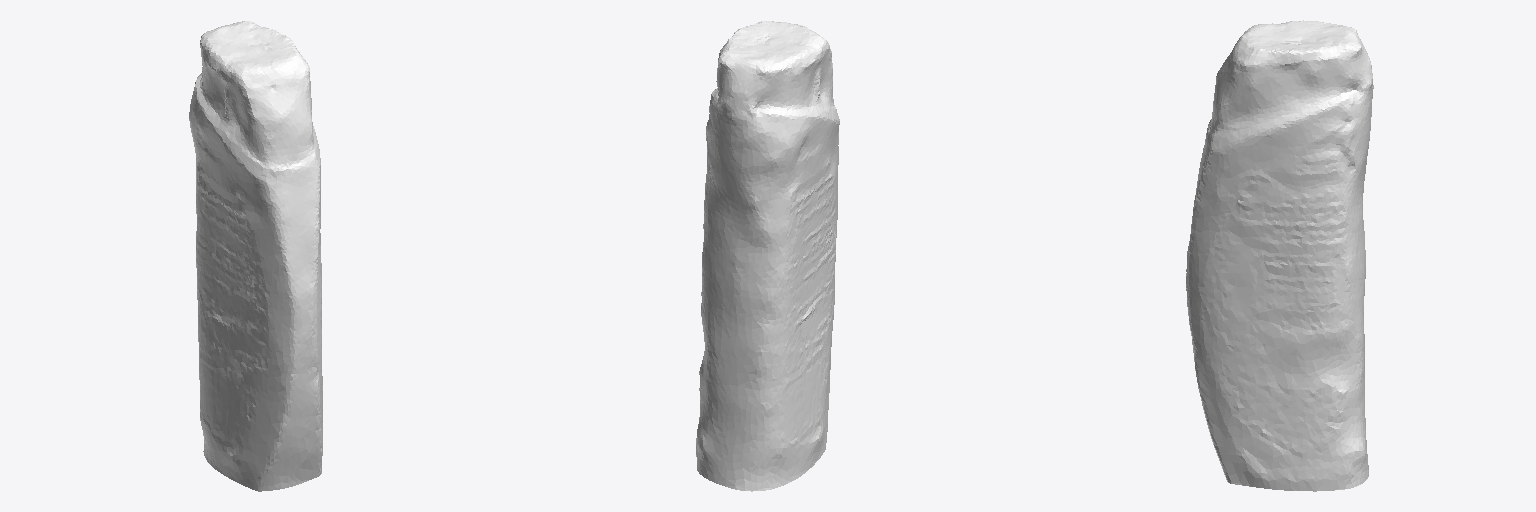
robot.urdf — shampoo:
<?xml version="1.0" ?>
<robot name="shampoo">
 <link name="baseLink">
   <contact>
     <lateral_friction value="0.5"/>
   </contact>
   <inertial>
     <origin rpy="0 0 0" xyz="0.00032 0.000552 -0.018659"/>
      <mass value="1.0"/>
      <inertia ixx="0.000003" ixy="-0.000000" ixz="0.000000" iyy="0.000002" iyz="-0.000000" izz="0.000000"/>
   </inertial>
   <visual>
     <origin rpy="0 0 0" xyz="0 0 0"/>
     <geometry>
       <mesh filename="shampoo.obj" scale="1.0 1.0 1.0"/>
     </geometry>
      <material name="white">
       <color rgba="1 1 1 1"/>
     </material>
   </visual>
   <collision>
     <origin rpy="0 0 0" xyz="0 0 0"/>
     <geometry>
       <mesh filename="shampoo_vhacd2.obj" scale="1.0 1.0 1.0"/>
     </geometry>
   </collision>
 </link>
</robot>

--- Render facts (derived) ---
3 views of the same robot in one strip: view 1: azimuth 30°, elevation 25°; view 2: azimuth 150°, elevation 25°; view 3: azimuth 270°, elevation 25° (orthographic).
Robot: shampoo — 1 links, 0 joints (none); root link baseLink; default pose: every joint at zero.
Visible links, largest first — view 1: baseLink; view 2: baseLink; view 3: baseLink.
Link boxes in pixels (x1,y1,x2,y2): baseLink: (189, 21, 322, 491); baseLink: (696, 21, 839, 491); baseLink: (1186, 20, 1373, 491).
Size in the robot's own frame: 0.0526 by 0.0834 by 0.214 metres.
Meshes: 1 distinct files referenced, 1 mesh visuals loaded (1 OBJ).